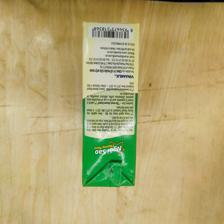NSPN_Hop: (79, 18, 139, 190)
